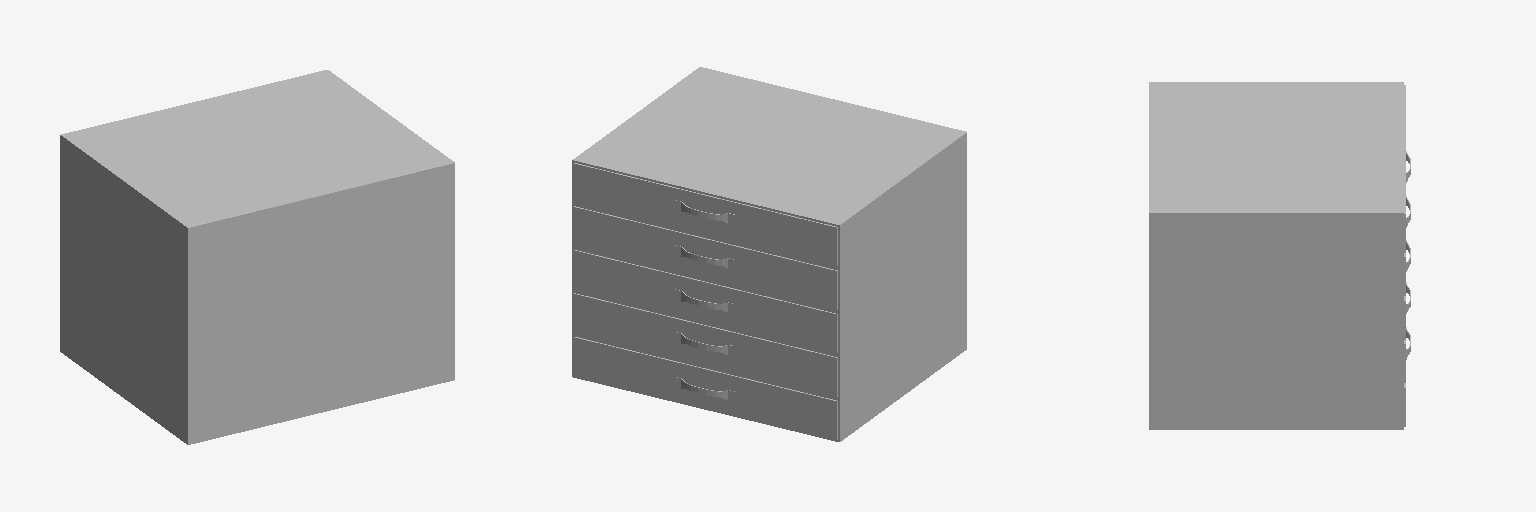
Rendered from nightstand.obj.
The picture shows the model from 3 angles: view 1: azimuth 30°, elevation 25°; view 2: azimuth 150°, elevation 25°; view 3: azimuth 270°, elevation 25°; orthographic projection.
Visible parts, largest first — view 1: grp1; view 2: grp1; view 3: grp1.
Boxes of the visible parts, x1=… form: grp1: x1=60, y1=70, x2=454, y2=444; grp1: x1=572, y1=67, x2=966, y2=441; grp1: x1=1149, y1=82, x2=1410, y2=429.
Size of the model in its own units: 8.33 by 6.47 by 7.09.